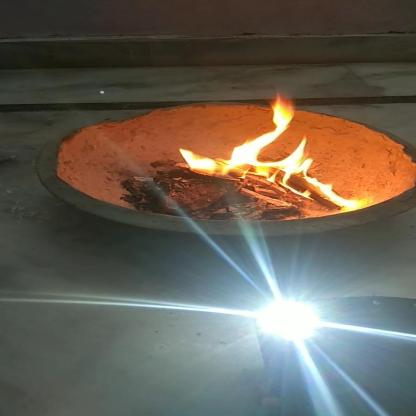fire: (166, 94, 359, 208)
